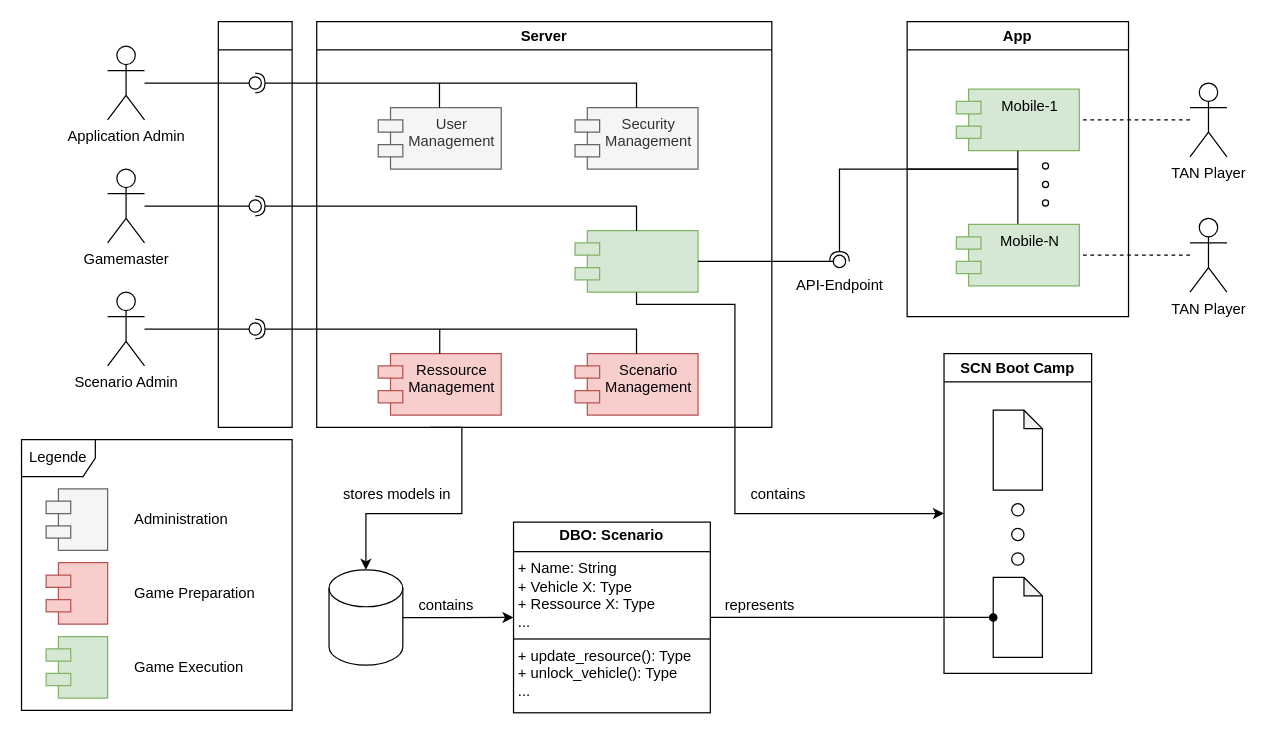
Image size: 1267x734. Some labels were removed from this diagram. Each missing label, with the centre of its shape:
"DB" belongs at (x=365, y=617).
"Execution Management" belongs at (x=636, y=260).
"SCN 1" belongs at (x=1017, y=449).
"SCN N" belongs at (x=1017, y=616).
"WEB API" belongs at (x=254, y=223).
